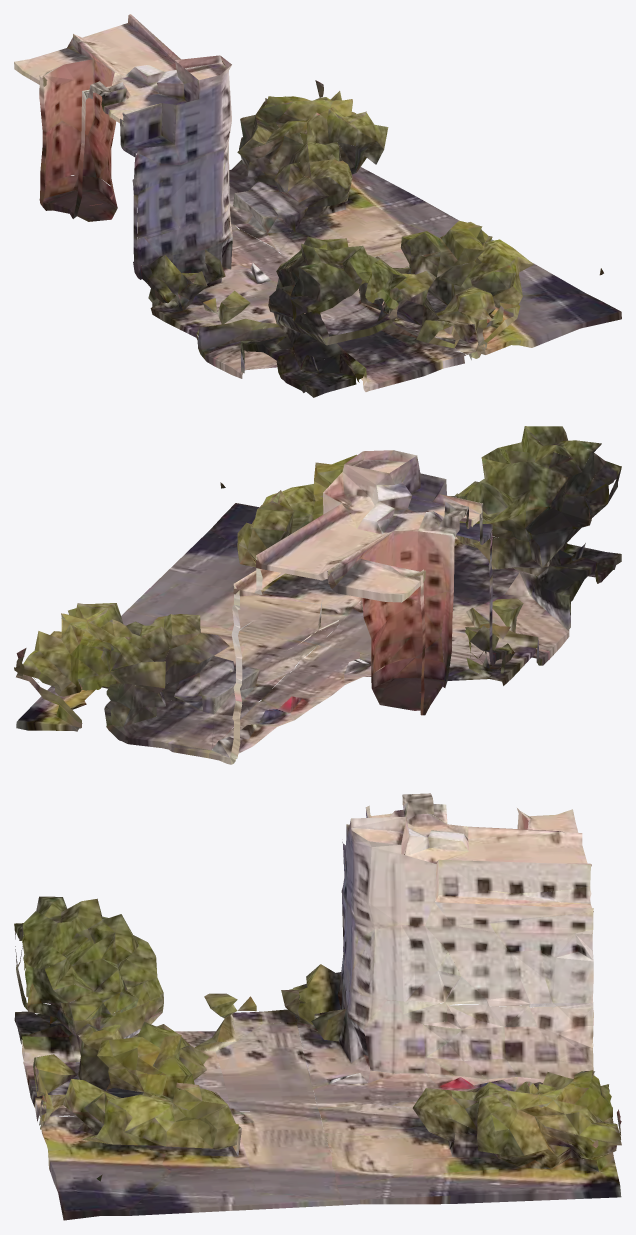
The picture shows the model from 3 angles, top to bottom: view 1: azimuth 30°, elevation 25°; view 2: azimuth 150°, elevation 25°; view 3: azimuth 270°, elevation 25°; orthographic projection. The views are drawn at different scales.
Parts seen in each view (by area): view 1: Mesh_0; view 2: Mesh_0; view 3: Mesh_0.
Boxes of the visible parts, <box> form: Mesh_0: <box>14,14,621,397</box>; Mesh_0: <box>14,426,621,764</box>; Mesh_0: <box>14,793,621,1220</box>.
Bounding box in the file's own units: 66.59 × 37.75 × 82.68.
Materials: 2 (2 with a texture image).
